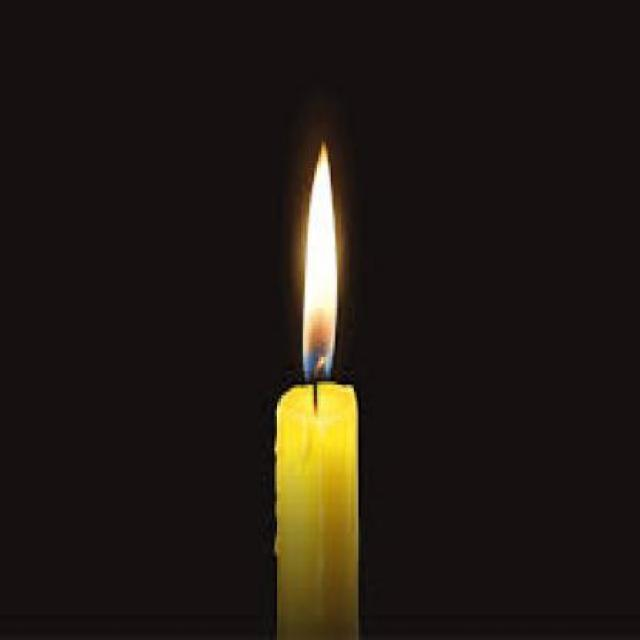Fire: (293, 138, 351, 385)
